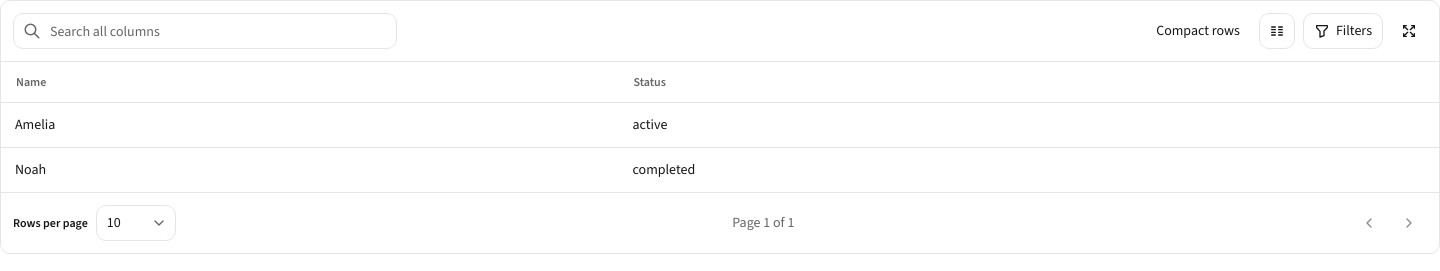
it: DataTable › filters data and announces result count
Type "Amelia" into the search field named "Search members" at x=205, y=31, box [13, 13, 397, 49]
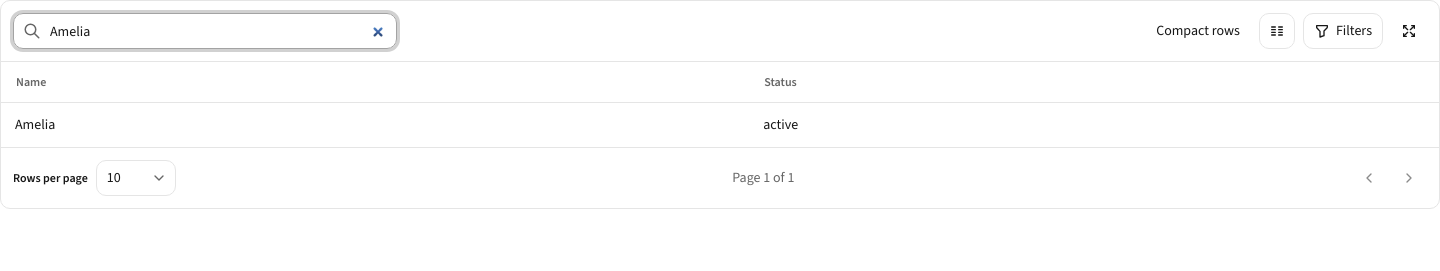
Check: the text "Amelia" is shown, box [1, 102, 749, 146]
Check: the text "Noah" is gone
